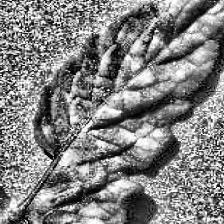leaf mold: (32, 0, 224, 224)
